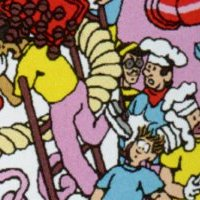odlaw: (123, 41, 144, 82)
